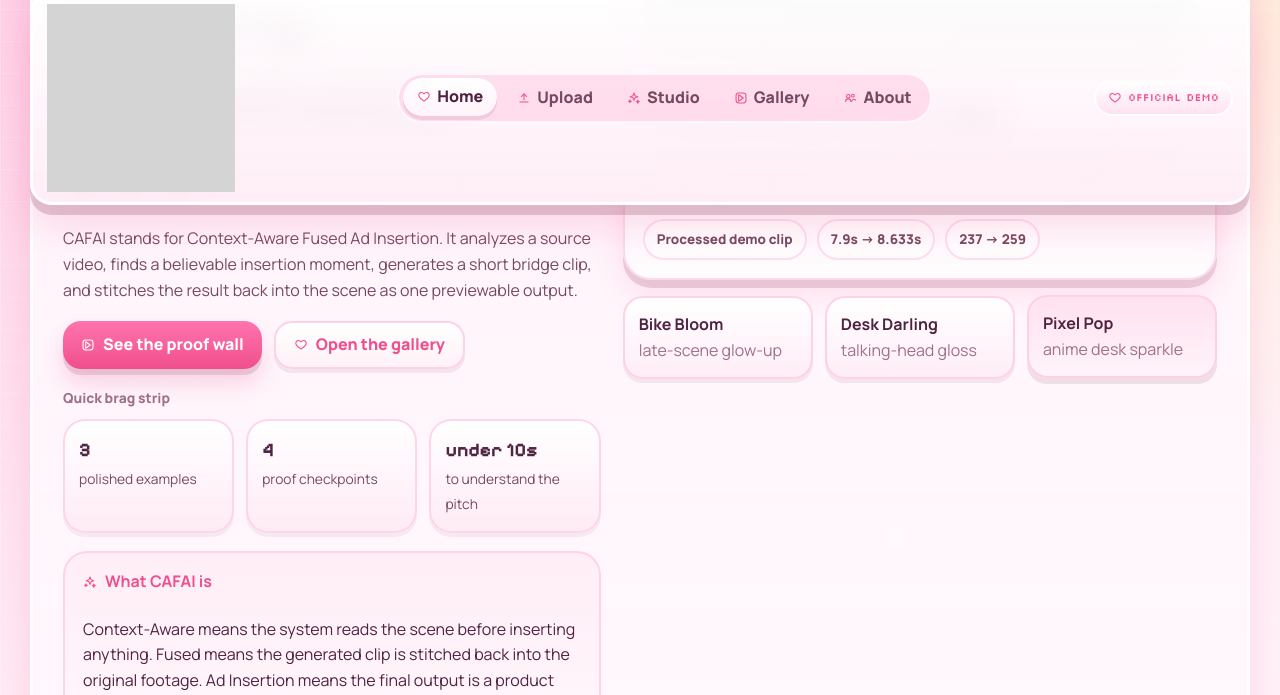
Test: App › switches the featured hero example from the demo selector
The image size is (1280, 695).
(page scrolled)
Click the tab "Bike Bloom late-scene glow-up": (718, 338) [623,296,813,379]
(page scrolled)
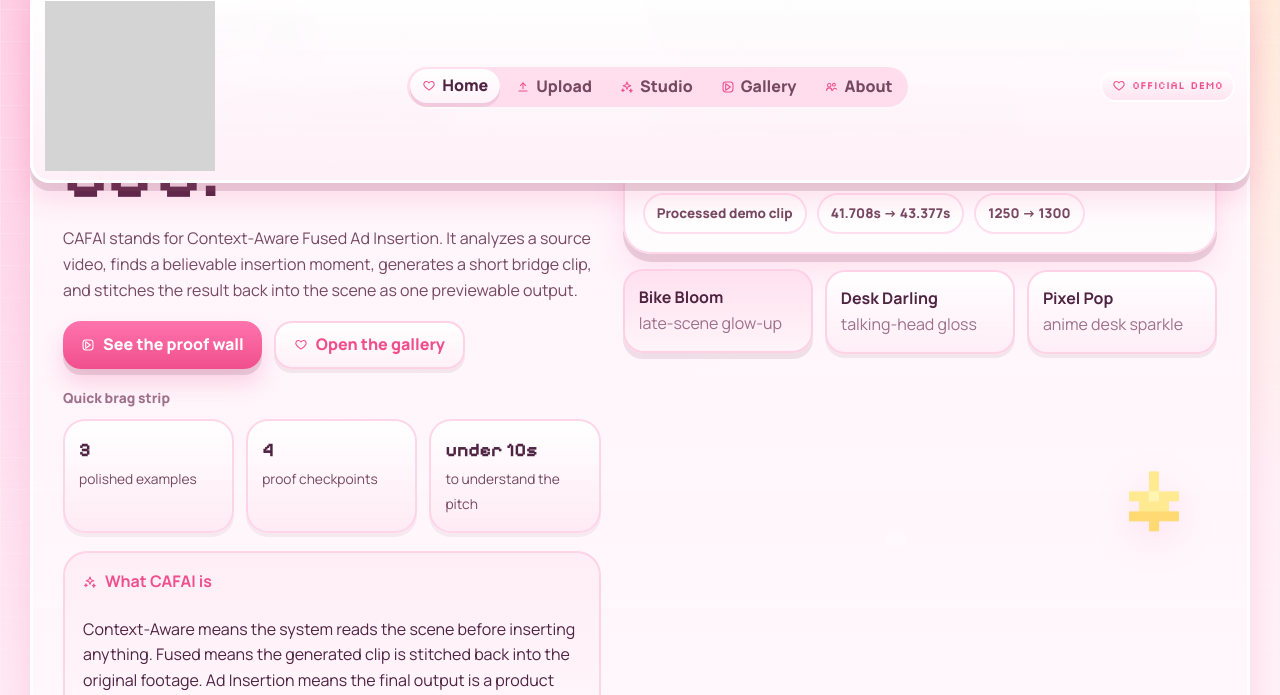
Now the heading "Bike Bloom Reveal" is shown, box [643,80,1023,134]
Now the text "41.708s -> 43.377s" is shown, box [817,193,964,234]
